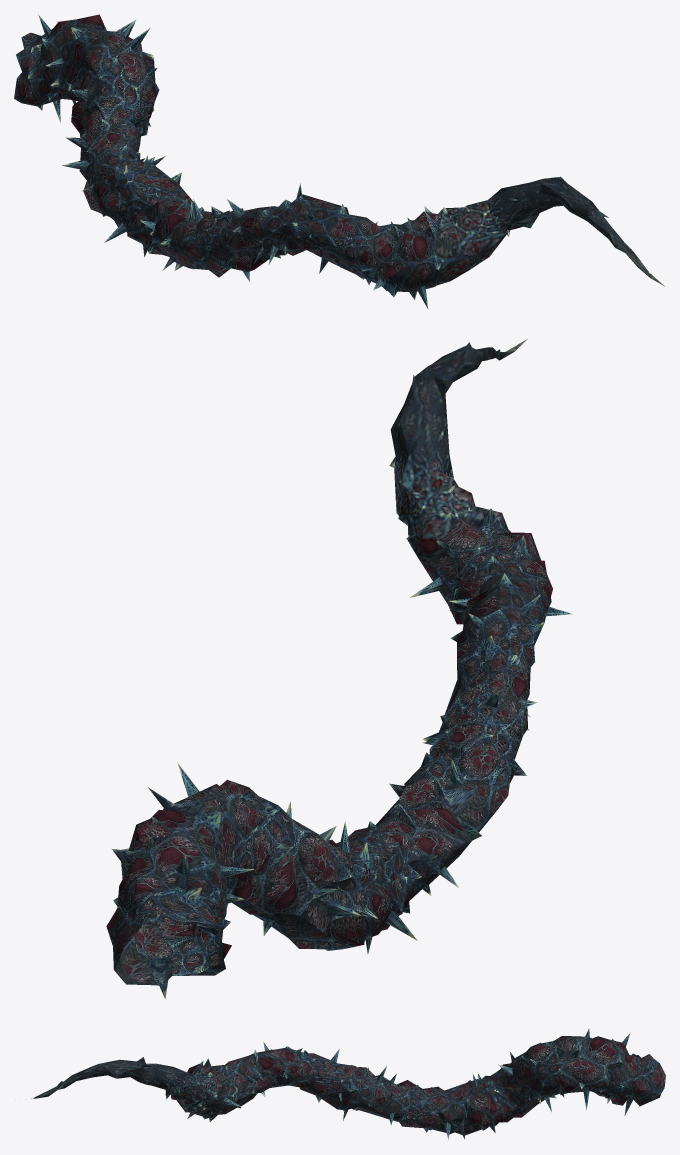
The model's file is 02_18_Makaizyu_01.fbx.
3 views of the same model, one above another, from view 1: azimuth 30°, elevation 25°; view 2: azimuth 150°, elevation 25°; view 3: azimuth 270°, elevation 25° (orthographic). The views are drawn at different scales.
Parts seen in each view (by area): view 1: LODGroup_3_MainMesh_1_SubMesh_1, LODGroup_3_MainMesh_1_SubMesh_2, LODGroup_3_MainMesh_1_SubMesh_3; view 2: LODGroup_3_MainMesh_1_SubMesh_1, LODGroup_3_MainMesh_1_SubMesh_2, LODGroup_3_MainMesh_1_SubMesh_3; view 3: LODGroup_3_MainMesh_1_SubMesh_1, LODGroup_3_MainMesh_1_SubMesh_2, LODGroup_3_MainMesh_1_SubMesh_3.
Boxes of the visible parts, box(x1,y1,x2,y2) form: LODGroup_3_MainMesh_1_SubMesh_1: box(21, 14, 442, 309); LODGroup_3_MainMesh_1_SubMesh_2: box(14, 19, 449, 299); LODGroup_3_MainMesh_1_SubMesh_3: box(434, 176, 664, 286); LODGroup_3_MainMesh_1_SubMesh_1: box(106, 508, 572, 998); LODGroup_3_MainMesh_1_SubMesh_2: box(150, 556, 545, 985); LODGroup_3_MainMesh_1_SubMesh_3: box(389, 339, 527, 559); LODGroup_3_MainMesh_1_SubMesh_1: box(187, 1032, 665, 1140); LODGroup_3_MainMesh_1_SubMesh_2: box(192, 1028, 639, 1133); LODGroup_3_MainMesh_1_SubMesh_3: box(31, 1057, 223, 1114).
Bounding box in the file's own units: 1003 × 787 × 3282.
